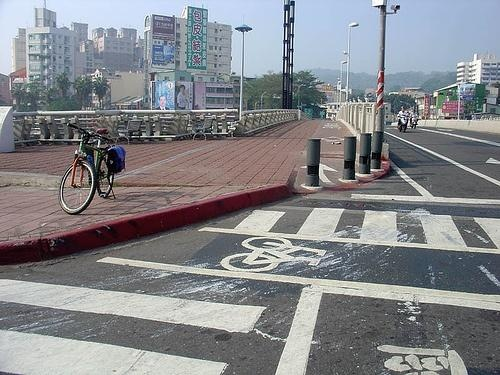bicycle: (59, 123, 121, 216)
